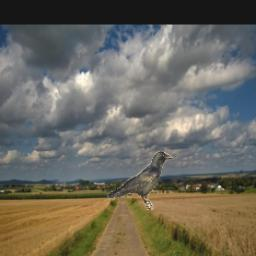Crow: (107, 151, 173, 211)
